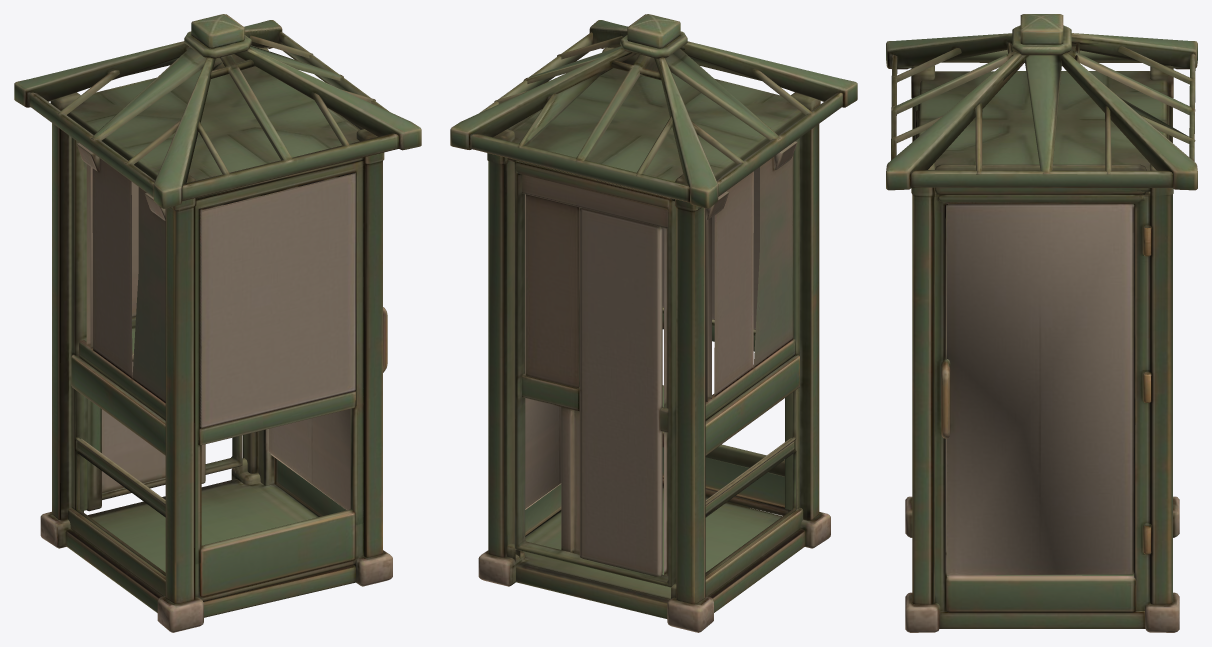
The model's file is phone_booth.glb.
3 views of the same model, side by side, from view 1: azimuth 30°, elevation 25°; view 2: azimuth 150°, elevation 25°; view 3: azimuth 270°, elevation 25° (orthographic). The views are drawn at different scales.
Visible parts, largest first — view 1: tripo_node_a7bd47ba-fa9f-44ca-b20b-a5342757a00e; view 2: tripo_node_a7bd47ba-fa9f-44ca-b20b-a5342757a00e; view 3: tripo_node_a7bd47ba-fa9f-44ca-b20b-a5342757a00e.
Boxes of the visible parts, x1,y1,x2,y2 form: tripo_node_a7bd47ba-fa9f-44ca-b20b-a5342757a00e: (14, 14, 421, 632); tripo_node_a7bd47ba-fa9f-44ca-b20b-a5342757a00e: (450, 14, 857, 632); tripo_node_a7bd47ba-fa9f-44ca-b20b-a5342757a00e: (886, 14, 1197, 632).
Bounding box in the file's own units: 0.5034 × 0.9995 × 0.5034.
Materials: 1 (1 with a texture image).
